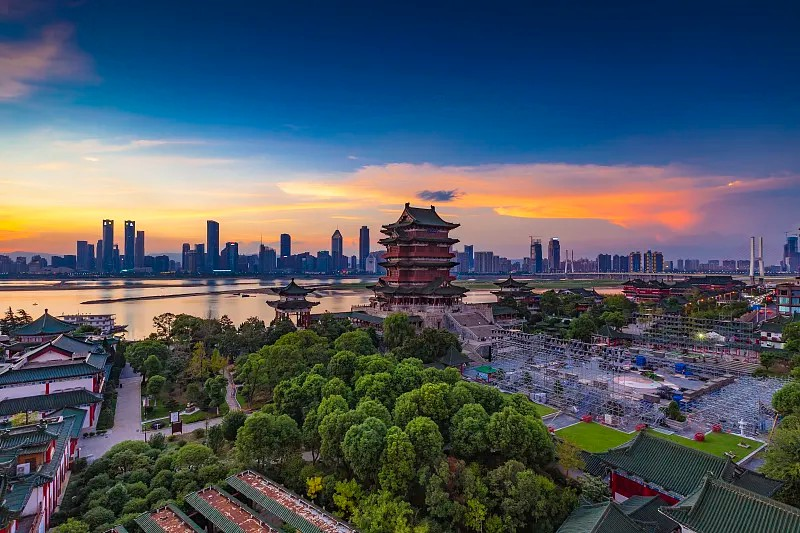Teng: (366, 202, 470, 312)
